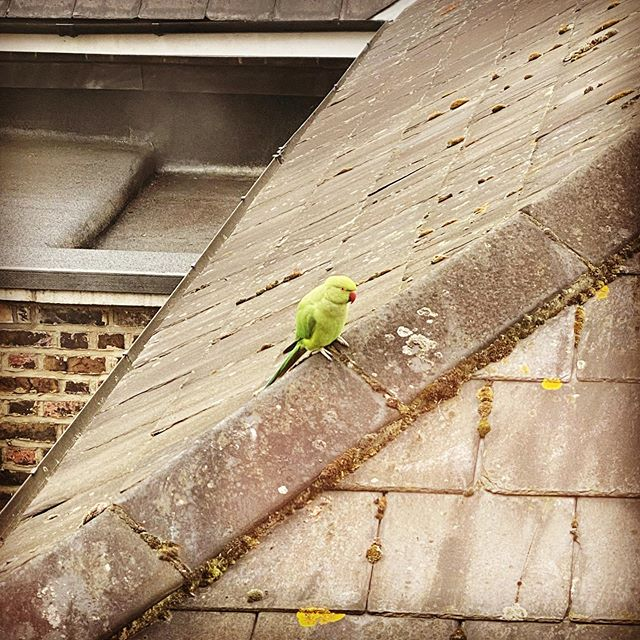animal: (273, 268, 363, 384)
